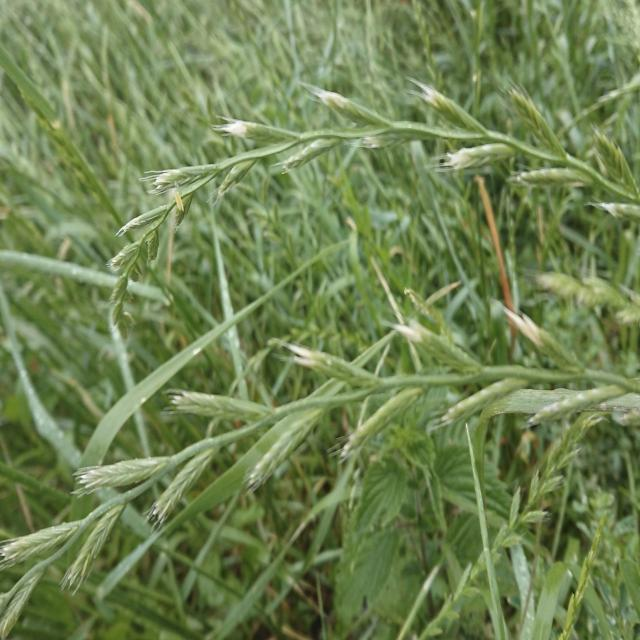Lolium: (2, 338, 637, 636), (109, 78, 640, 322)
